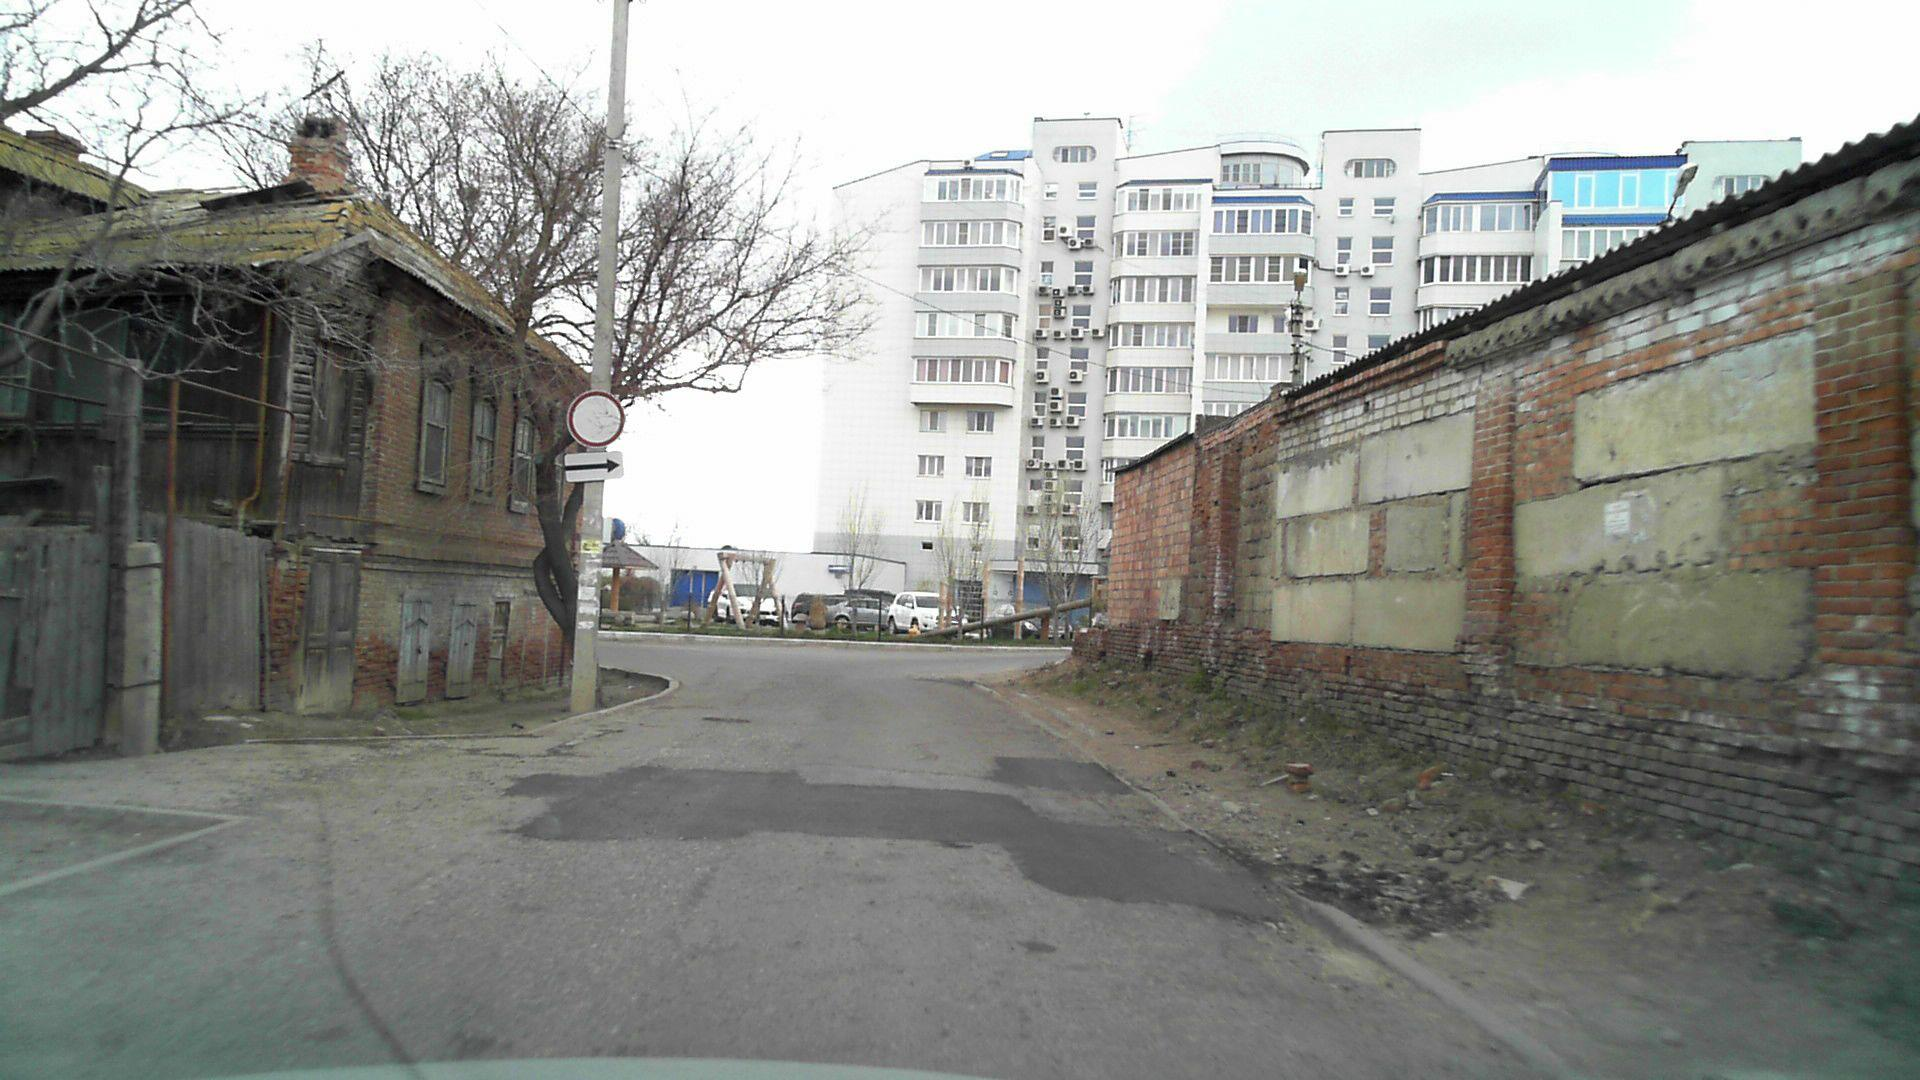3_2: (564, 391, 624, 446)
8_3_1: (562, 446, 626, 488)
